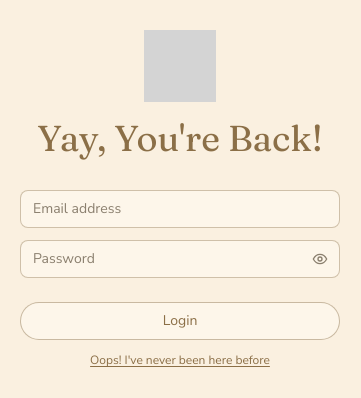
it: AuthForm › surfaces a field error, which is the shape DRF actually returns
The image size is (361, 398).
Type "a@example.com" into the field labelled "Email address" at [180, 209], box 20,190 -> 340,228
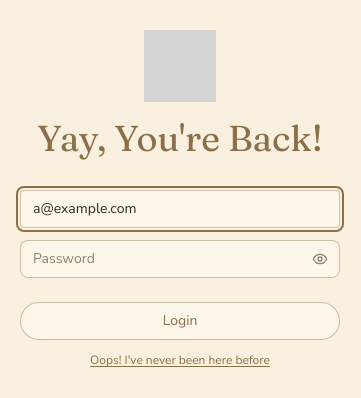
Type "pw-123-abc" into the password field labelled "Password" at [180, 259], box 20,240 -> 340,278
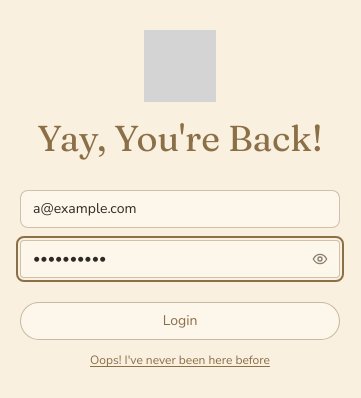
Click the button "Login" at [180, 321], box 20,302 -> 340,340
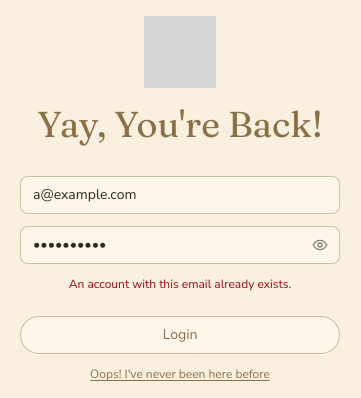
Now the message reads "An account with this email already exists.", box 69,276 -> 291,292
